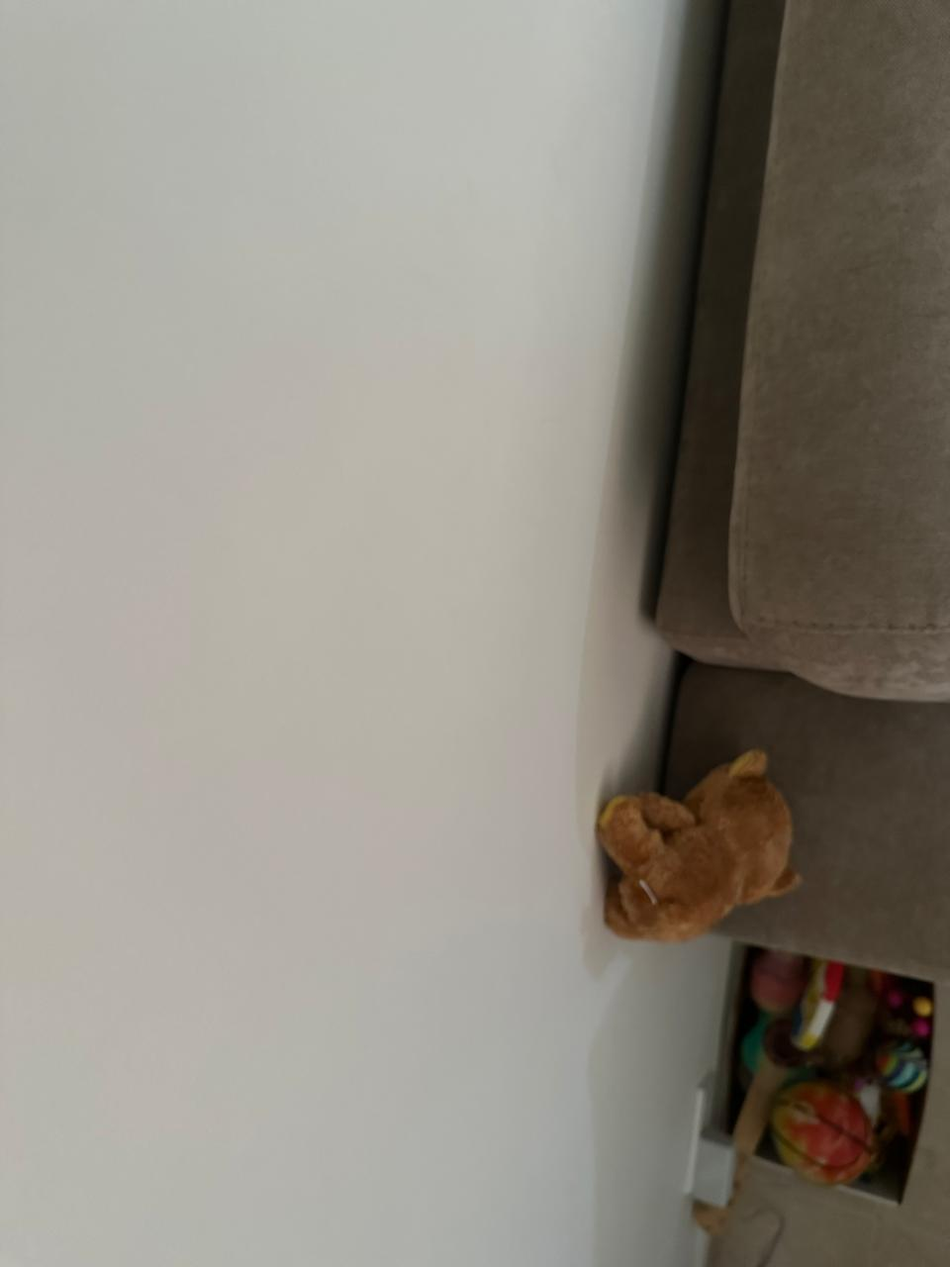peluche_sebastian: (596, 745, 807, 935)
